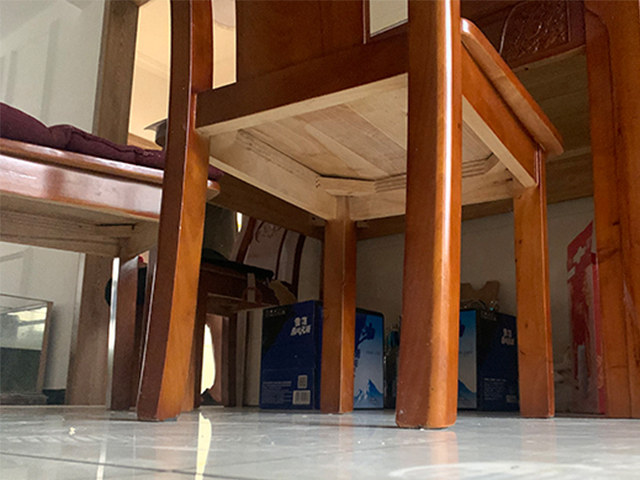stool: (135, 1, 566, 429), (1, 100, 163, 414)
